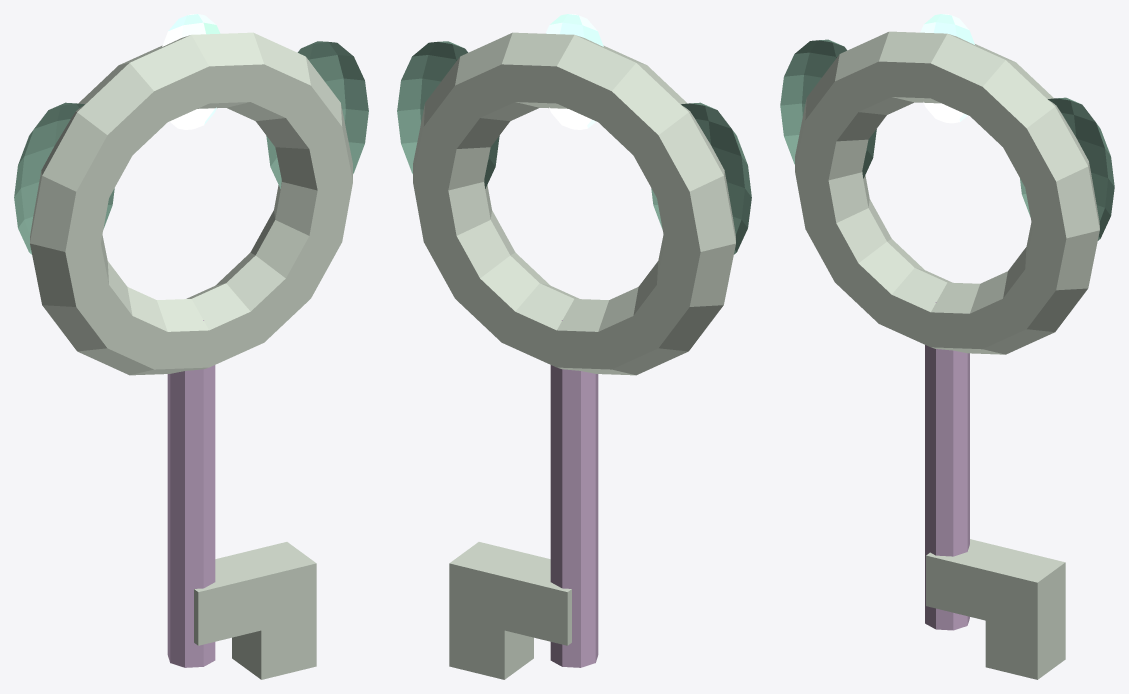
Rendered from runestone-conservatory-conservatory-key-icon__121.glb.
The picture shows the model from 3 angles, left to right: view 1: azimuth 30°, elevation 25°; view 2: azimuth 150°, elevation 25°; view 3: azimuth 330°, elevation 25°; orthographic projection. The views are drawn at different scales.
Parts seen in each view (by area): view 1: runestone-conservatory-garden-key; view 2: runestone-conservatory-garden-key; view 3: runestone-conservatory-garden-key.
Part boxes in pixels (bbox=[...]): runestone-conservatory-garden-key: bbox=[14, 14, 368, 679]; runestone-conservatory-garden-key: bbox=[397, 14, 751, 679]; runestone-conservatory-garden-key: bbox=[780, 14, 1114, 679].
Bounding box in the file's own units: 0.45 × 0.81 × 0.0779.
